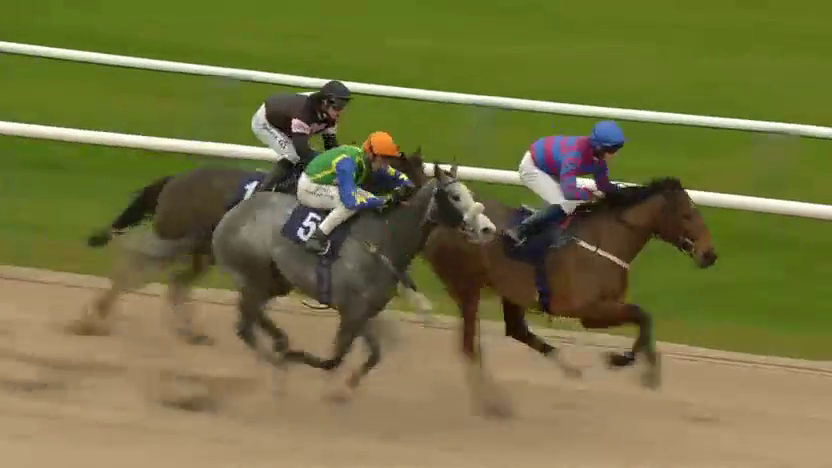jockey: (513, 121, 623, 249), (299, 130, 402, 255), (251, 79, 350, 208)
